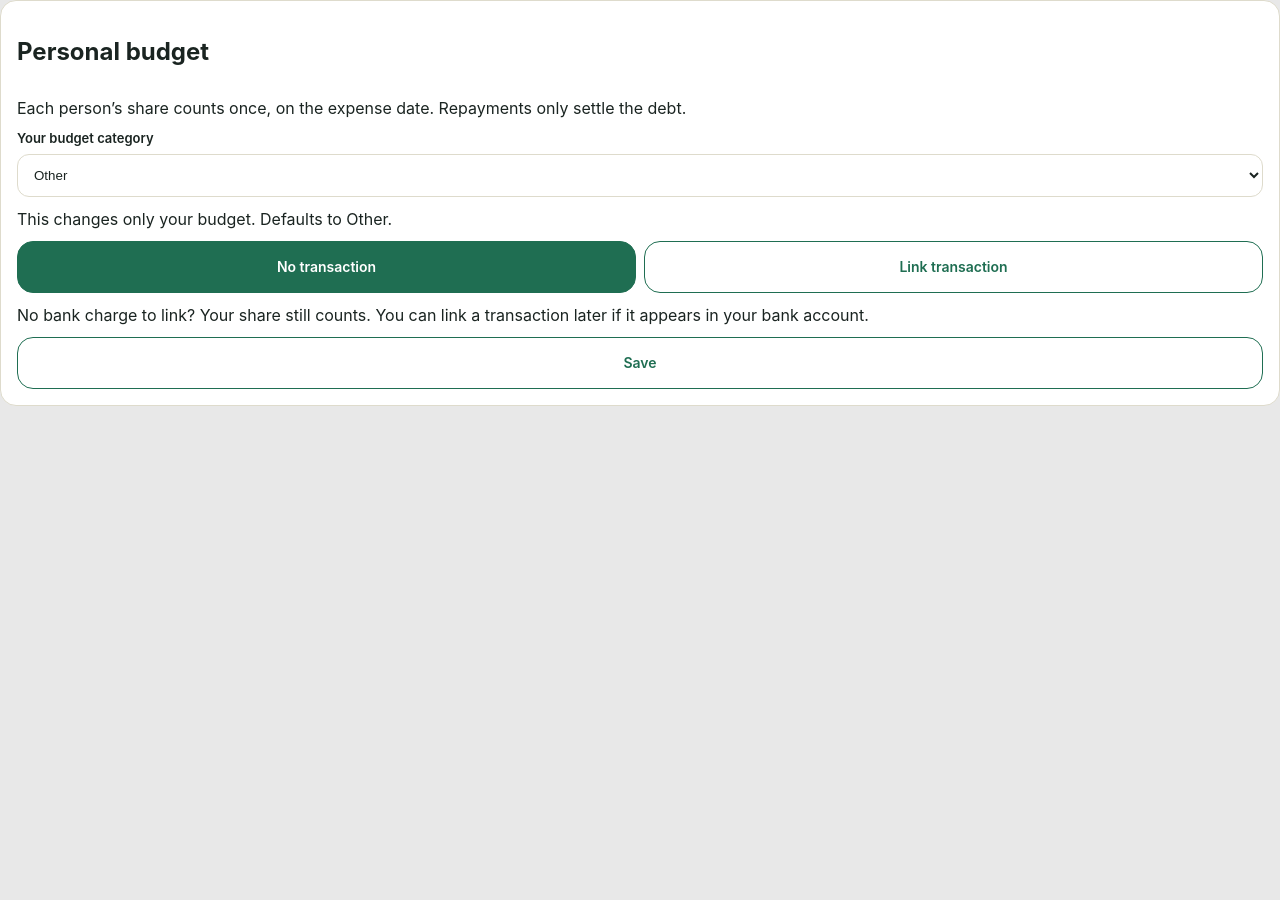
Test: filters transactions by merchant, date, and amount
The width and height of the screenshot is (1280, 900).
Click the button "Link transaction": x=954, y=267 [644,241,1263,293]
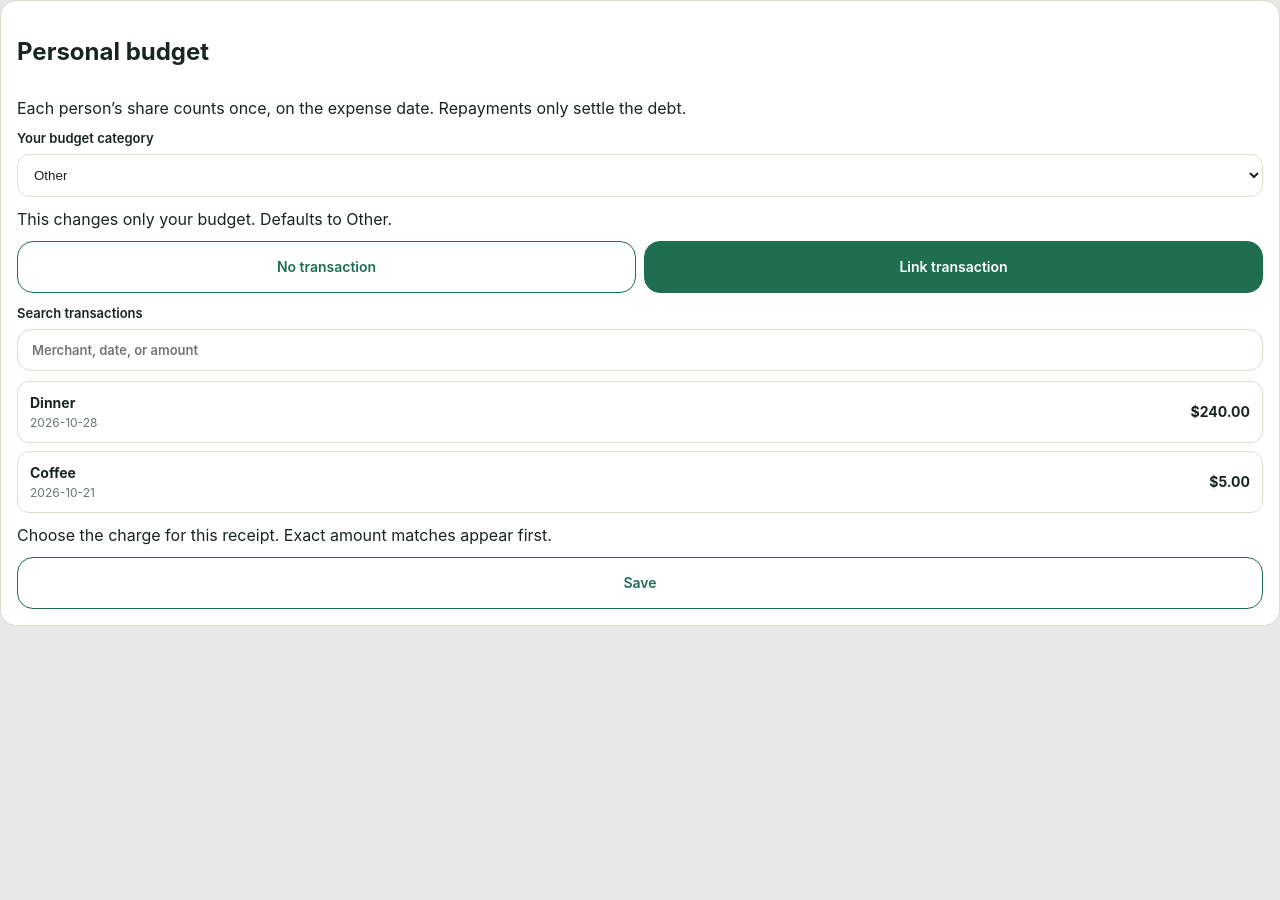
In the search field: x=640, y=350 [17,329,1263,371], type "coffee"
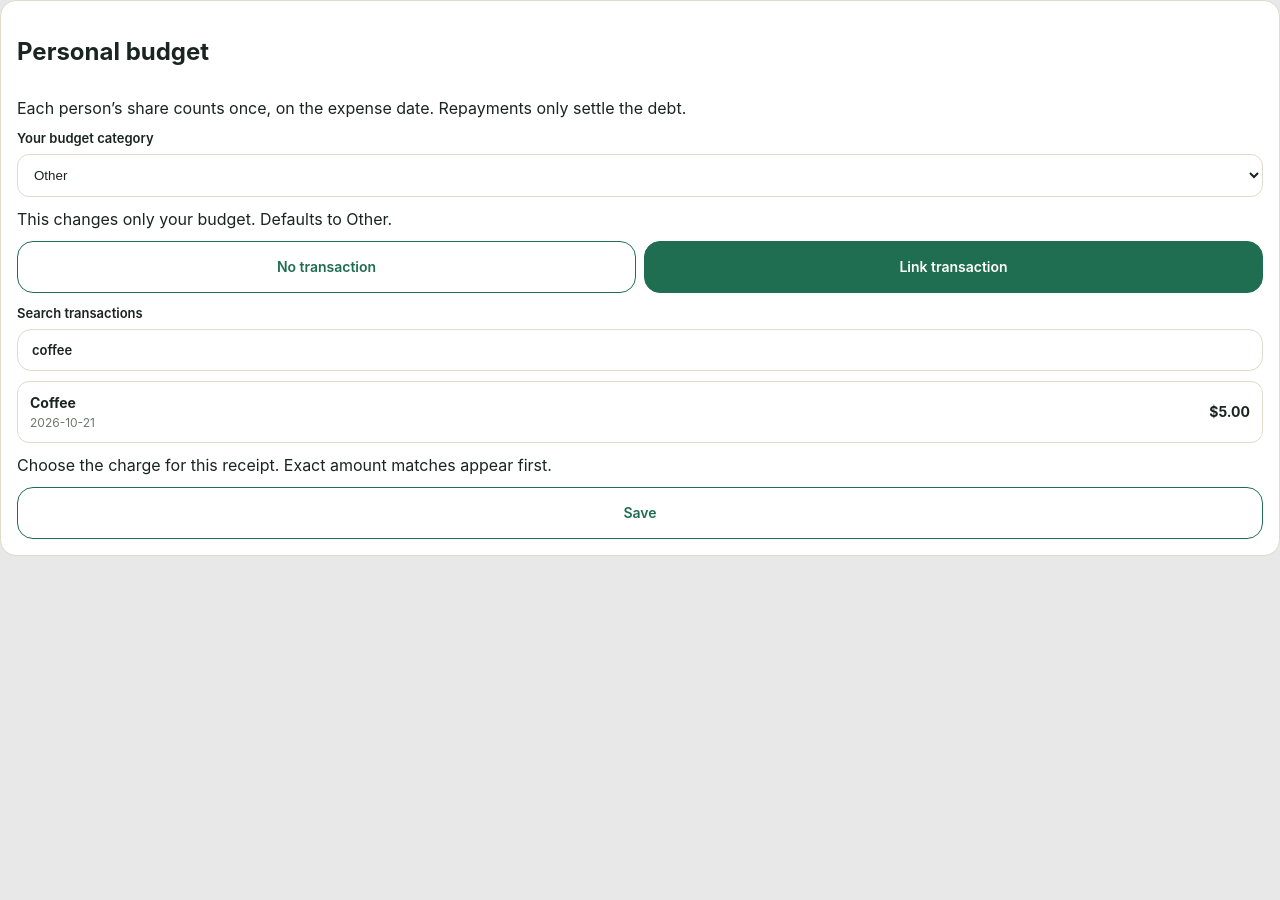
Expected: the button "Coffee 2026-10-21 $5.00" is shown, [17,381,1263,443]
Expected: the button "Dinner" is gone
Replace the text in the search field with "2026-10-21": x=640, y=350 [17,329,1263,371]
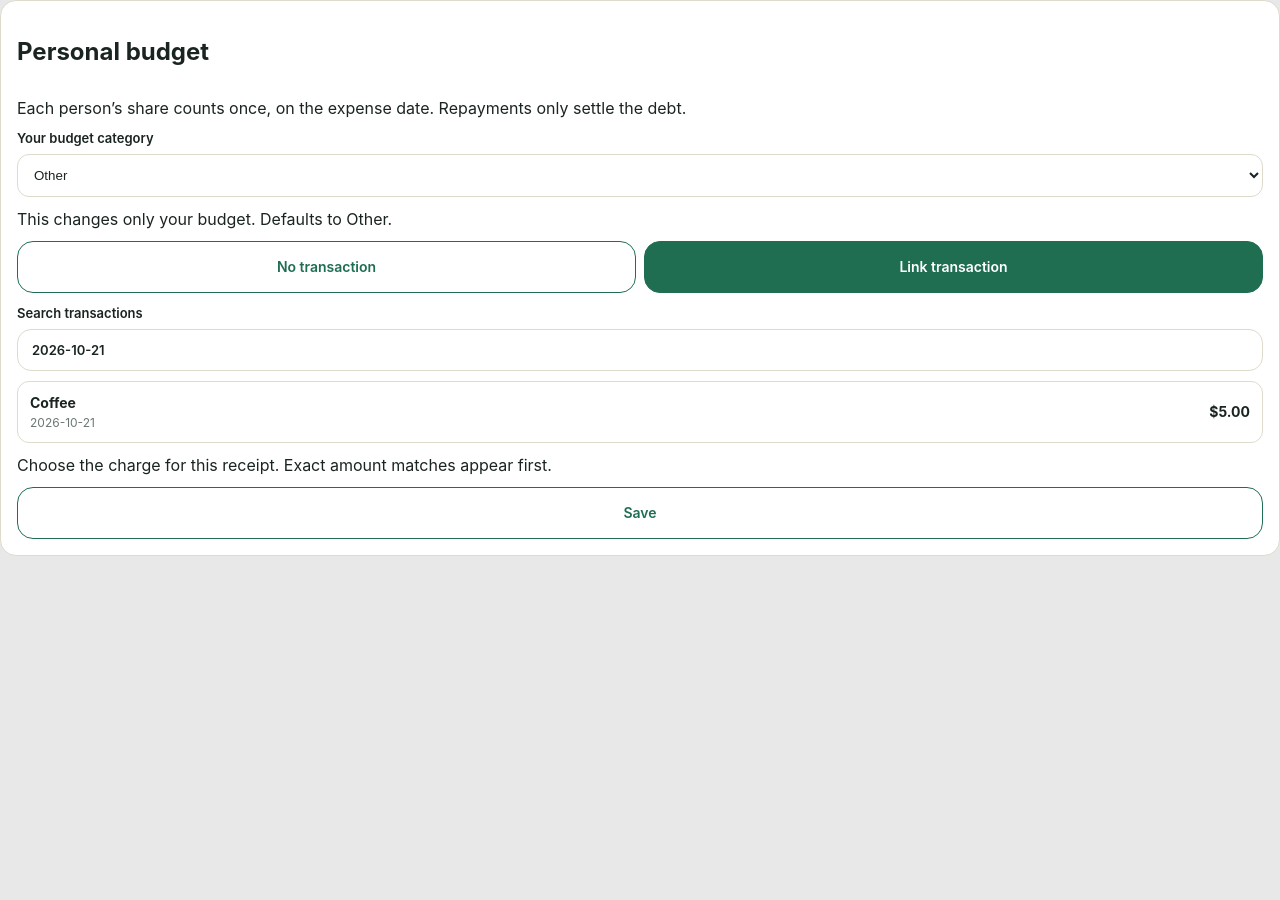
Expected: the button "Dinner" is not shown
Expected: the button "Coffee 2026-10-21 $5.00" is shown, [17,381,1263,443]
Replace the text in the search field with "5.00": x=640, y=350 [17,329,1263,371]
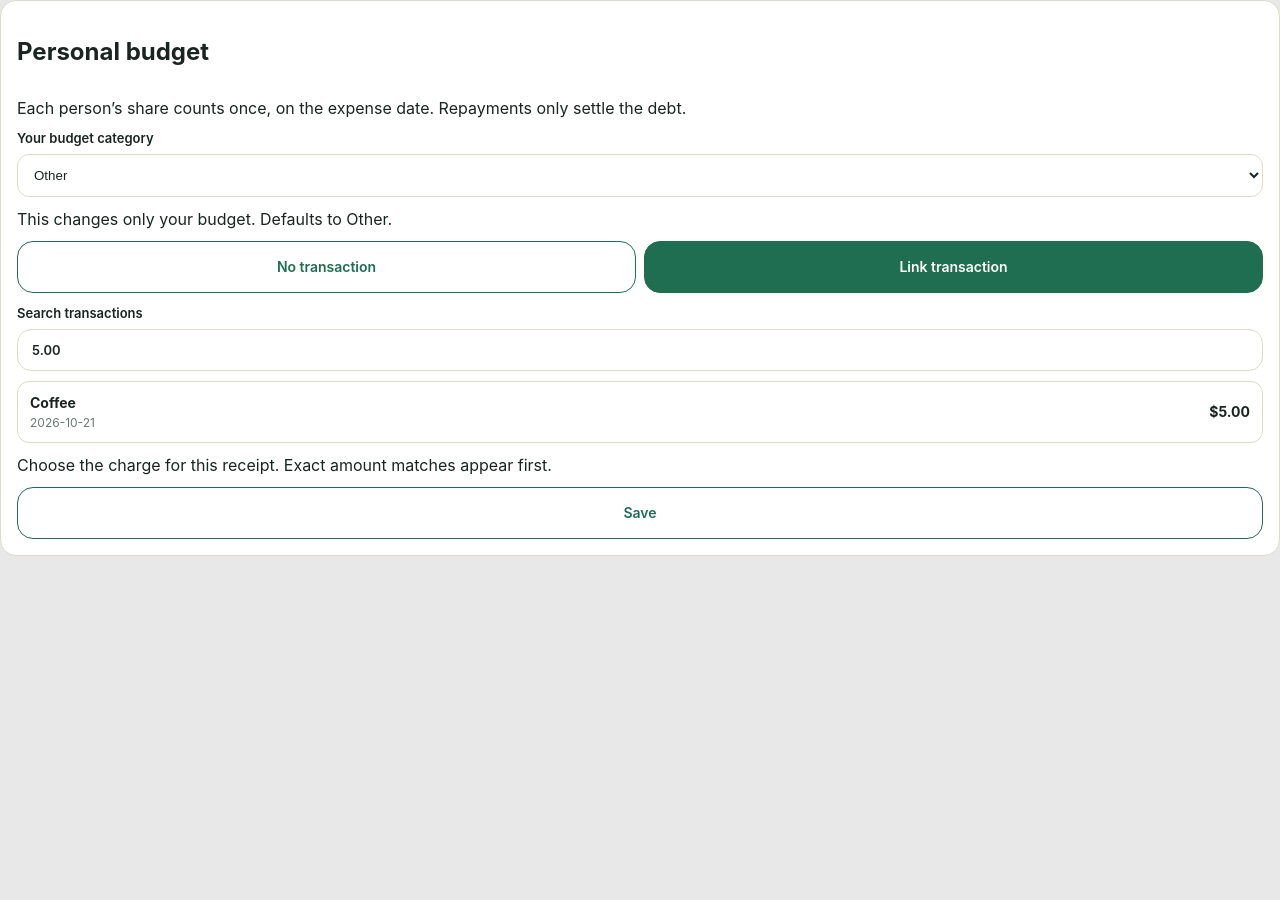
Expected: the button "Dinner" is not shown
Expected: the button "Coffee 2026-10-21 $5.00" is shown, [17,381,1263,443]
Replace the text in the search field with "nothing": x=640, y=350 [17,329,1263,371]
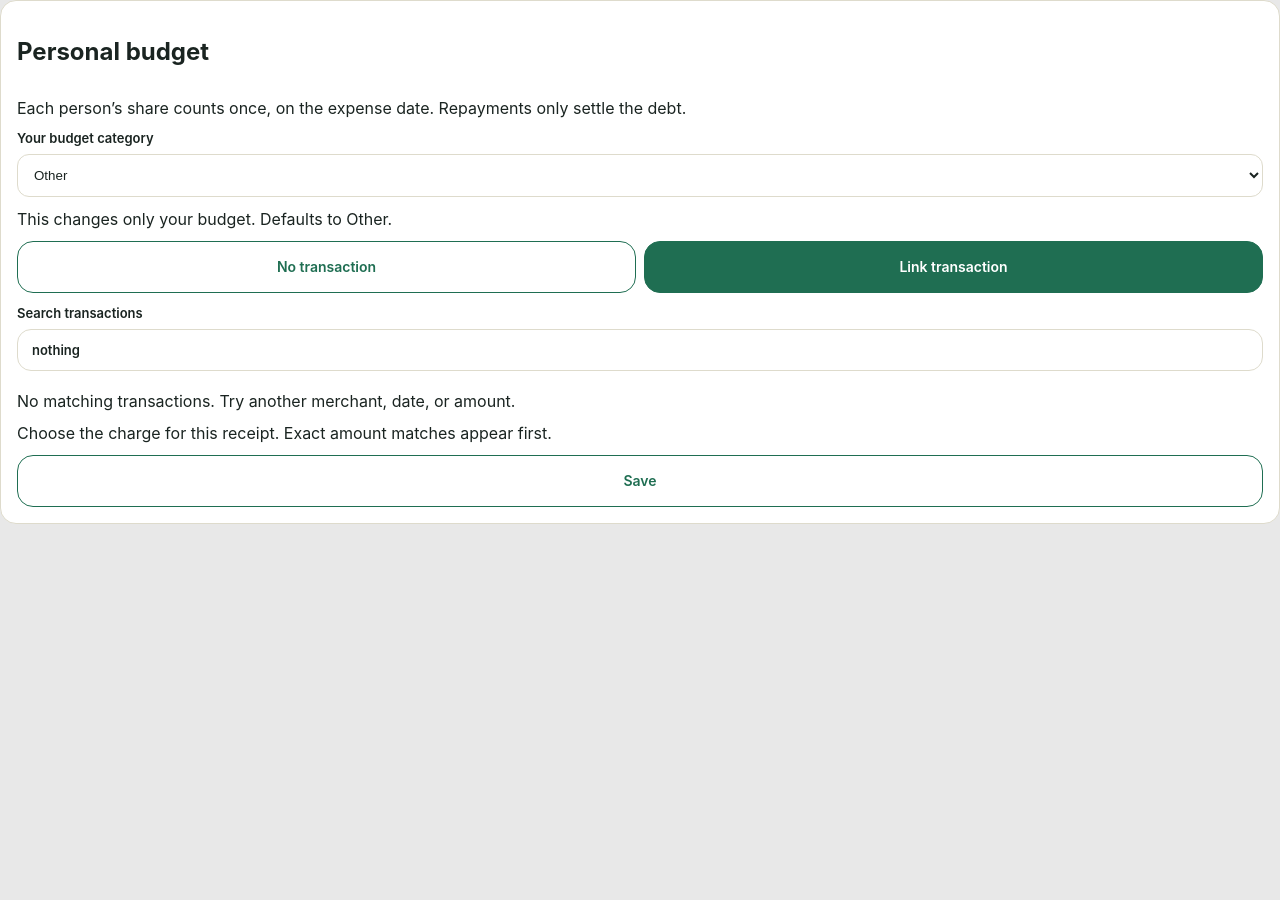
Expected: the text "No matching transactions" is shown, [17,391,516,411]
